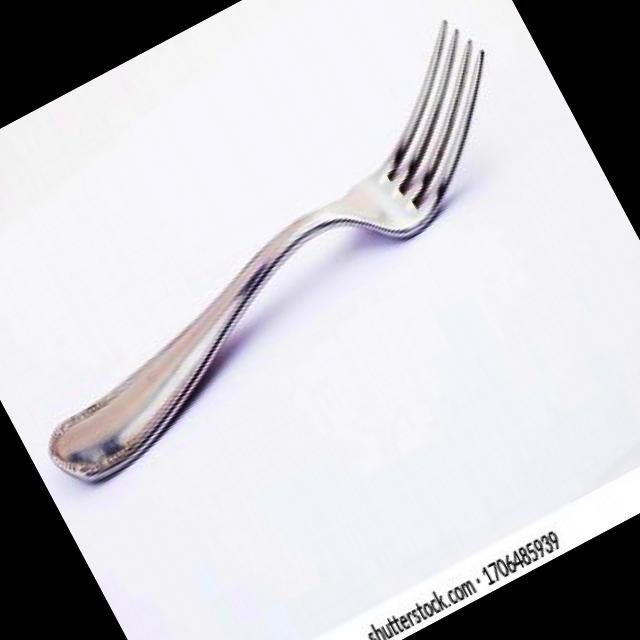fork: (0, 9, 579, 500)
